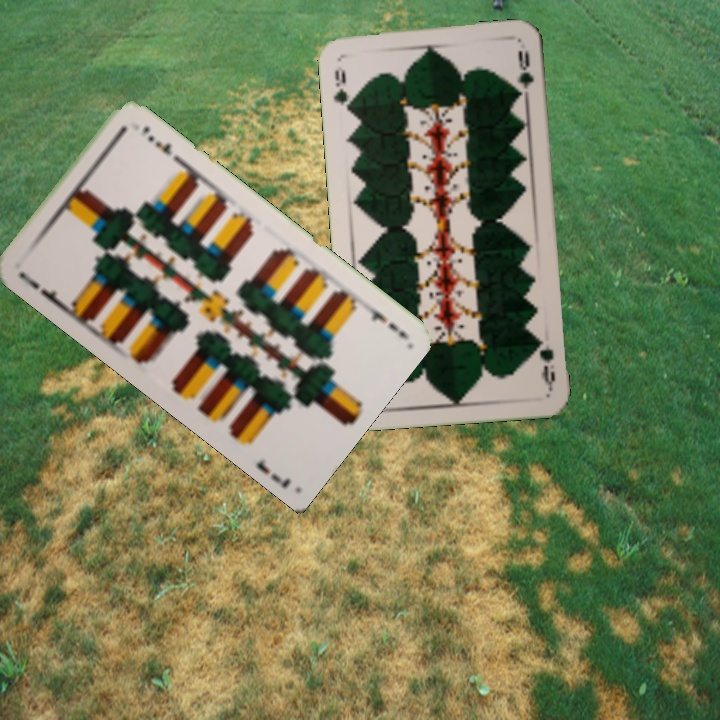E7: (357, 297, 408, 340), (14, 267, 65, 309)
G9: (532, 333, 558, 391), (329, 65, 355, 115)
